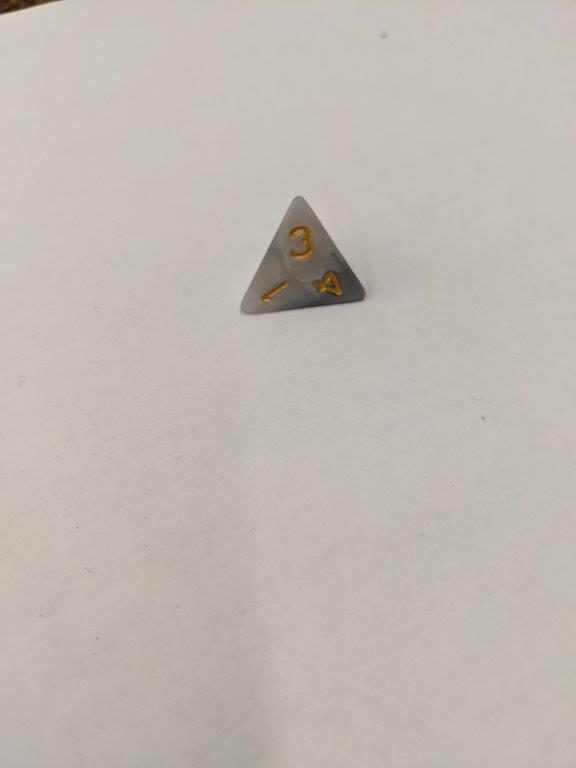d4-3: (231, 190, 370, 317)
